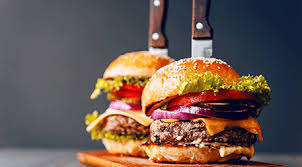hamburger: (142, 54, 272, 166), (95, 45, 151, 156)
